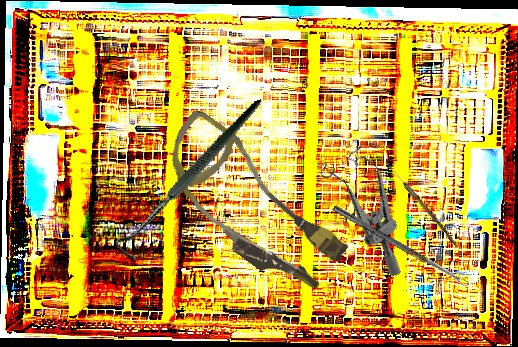Cannula: (140, 106, 363, 305)
Hook Surgical: (86, 99, 298, 264)
Speculum: (306, 134, 440, 279)
Surgical Spoon: (331, 204, 470, 289), (383, 159, 460, 248)
